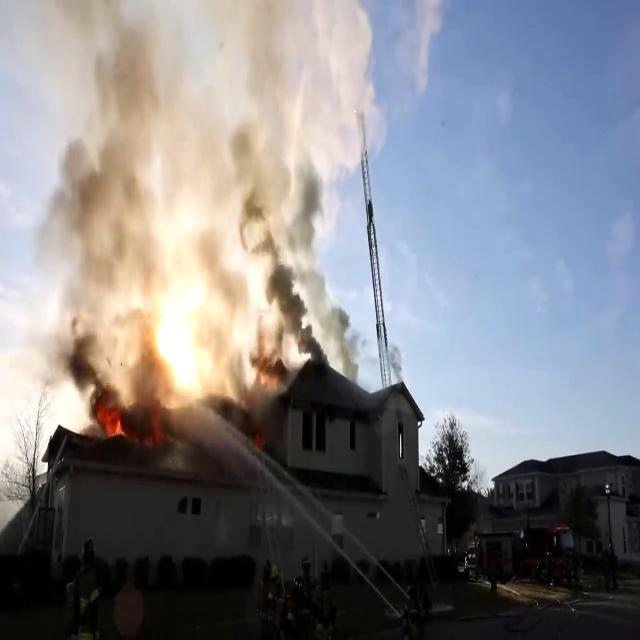Smoke: (12, 0, 341, 405)
